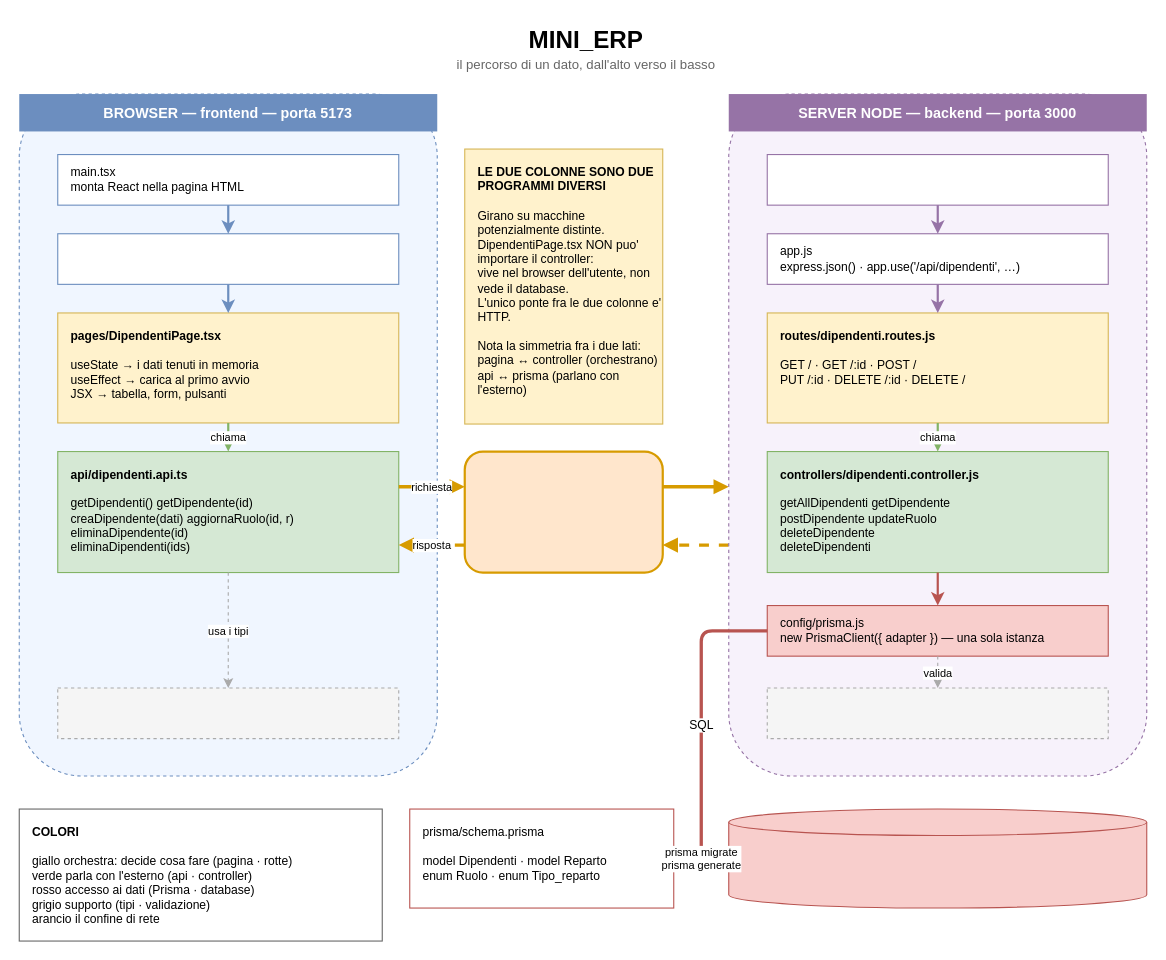
Some shapes in this 1166 by 960 pixel diagram are drawn without their labels. The centre of each missing label's shape, as x and y in pixels:
"App.tsx componente radice" belongs at [228,258].
"HTTP fetch('/api/dipendenti') proxy Vite 5173 → 3000" belongs at [563,511].
"PostgreSQL 16 — container Docker — localhost:5433 — database mini_erp" belongs at [937,858].
"server.js app.listen(3000)" belongs at [937,179].
"services/dipendenti.service.js validaIds()" belongs at [937,713].
"types/dipendenti.types.ts type Dipendente · type Ruolo" belongs at [228,713].
